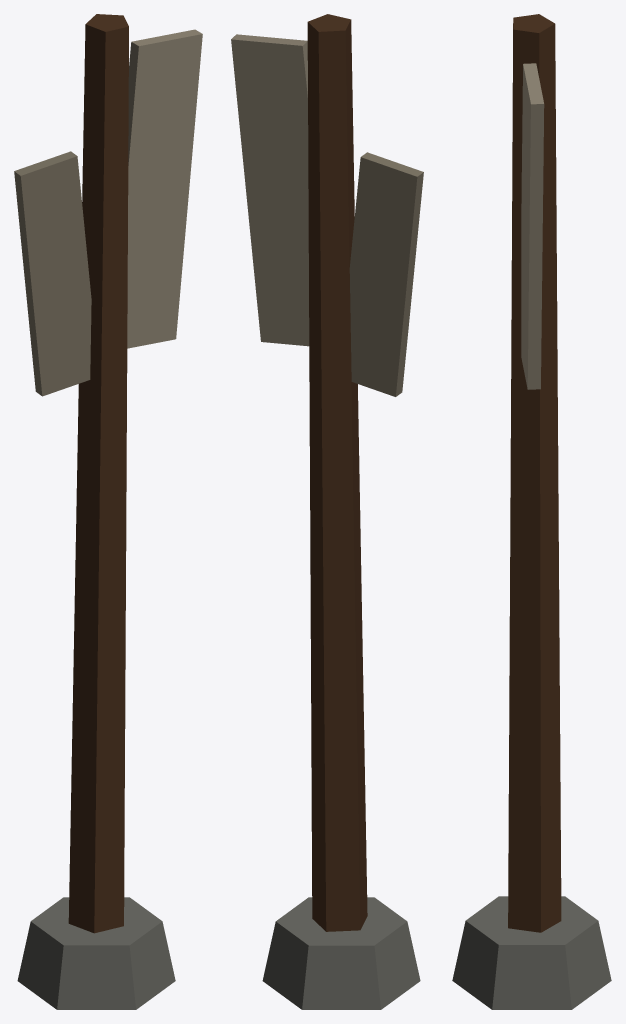
Rendered from prop_camp_pole_cloth.glb.
The picture shows the model from 3 angles, left to right: view 1: azimuth 30°, elevation 25°; view 2: azimuth 150°, elevation 25°; view 3: azimuth 270°, elevation 25°; orthographic projection.
Parts seen in each view (by area): view 1: prop_camp_pole_cloth; view 2: prop_camp_pole_cloth; view 3: prop_camp_pole_cloth.
Boxes of the visible parts, bbox=[...] form: prop_camp_pole_cloth: bbox=[14, 14, 202, 1009]; prop_camp_pole_cloth: bbox=[231, 14, 423, 1009]; prop_camp_pole_cloth: bbox=[452, 14, 611, 1009].
Bounding box in the file's own units: 0.324 × 1.6 × 0.24.
